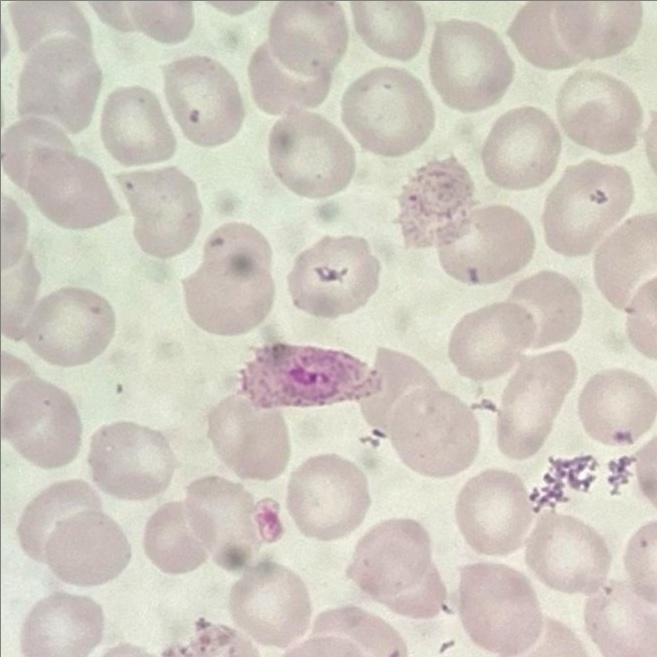Infected: (238, 342, 380, 408), (393, 158, 474, 246)
Uninfected: (181, 224, 276, 334), (346, 516, 444, 617), (374, 378, 475, 476), (510, 2, 638, 70), (542, 160, 633, 254), (338, 68, 433, 156), (496, 349, 576, 452), (17, 34, 102, 130), (21, 147, 119, 230), (116, 165, 201, 259), (437, 205, 534, 286), (16, 479, 105, 566), (427, 21, 512, 111), (288, 233, 378, 318), (266, 112, 354, 198), (456, 560, 541, 649), (2, 375, 81, 468), (162, 56, 244, 144), (554, 71, 639, 154), (24, 287, 114, 365), (285, 456, 369, 539), (483, 105, 563, 192), (227, 564, 309, 645), (525, 511, 607, 592), (207, 398, 286, 482), (248, 44, 336, 119), (502, 269, 581, 352), (449, 303, 534, 379), (89, 420, 170, 499), (593, 213, 656, 314), (183, 475, 260, 557), (455, 470, 531, 552), (366, 347, 438, 433), (100, 87, 176, 167), (575, 369, 653, 446), (266, 3, 349, 74), (1, 115, 77, 188), (22, 593, 101, 655), (143, 503, 206, 574), (351, 1, 428, 59), (584, 586, 648, 655)
